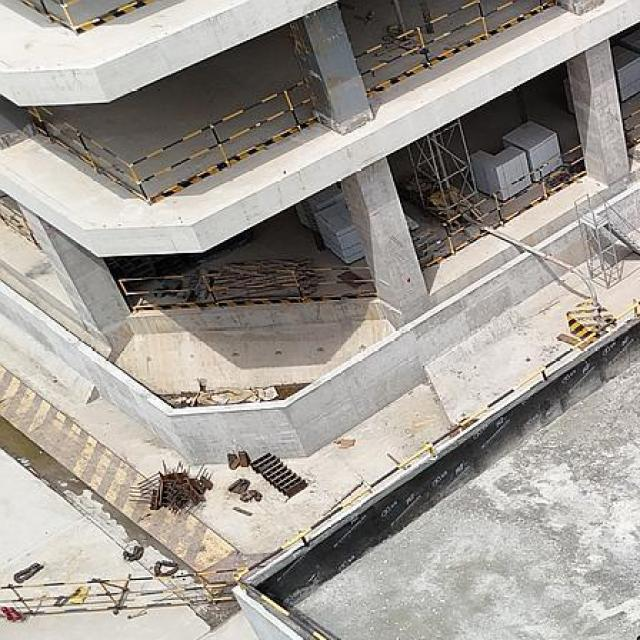edge_guardrail: (233, 297, 640, 639), (35, 78, 319, 206), (413, 142, 588, 269), (354, 0, 553, 96), (117, 266, 379, 310), (49, 0, 80, 27), (621, 108, 640, 136)
